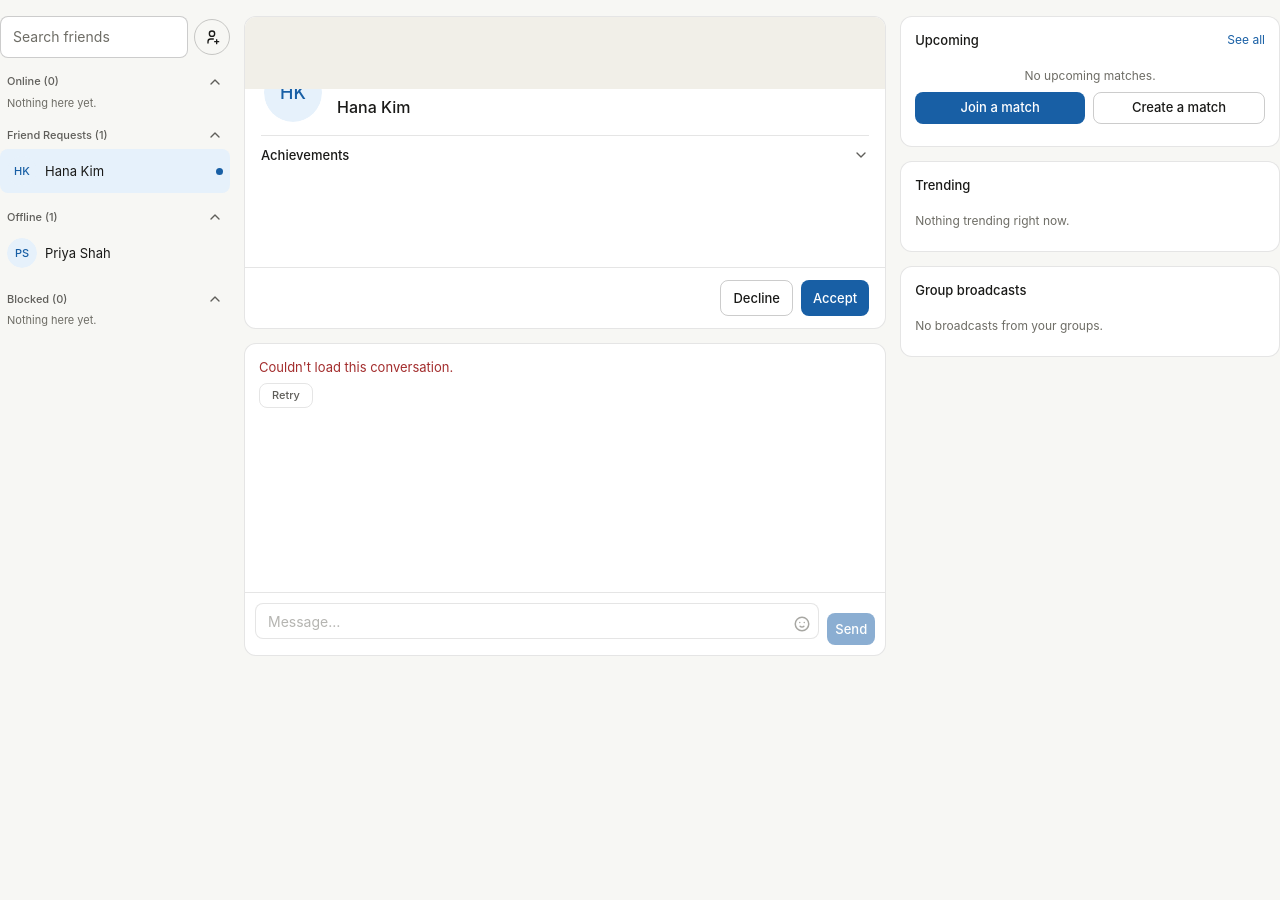
Test: FriendsPage › FRIEND-2: a friend-request notification arrival — accepting then unfriending does not re-open the unavailable dialog
# arrives pre-selected on Hana's incoming request
Click the button "Accept" at (835, 298), box [801,280,869,316]
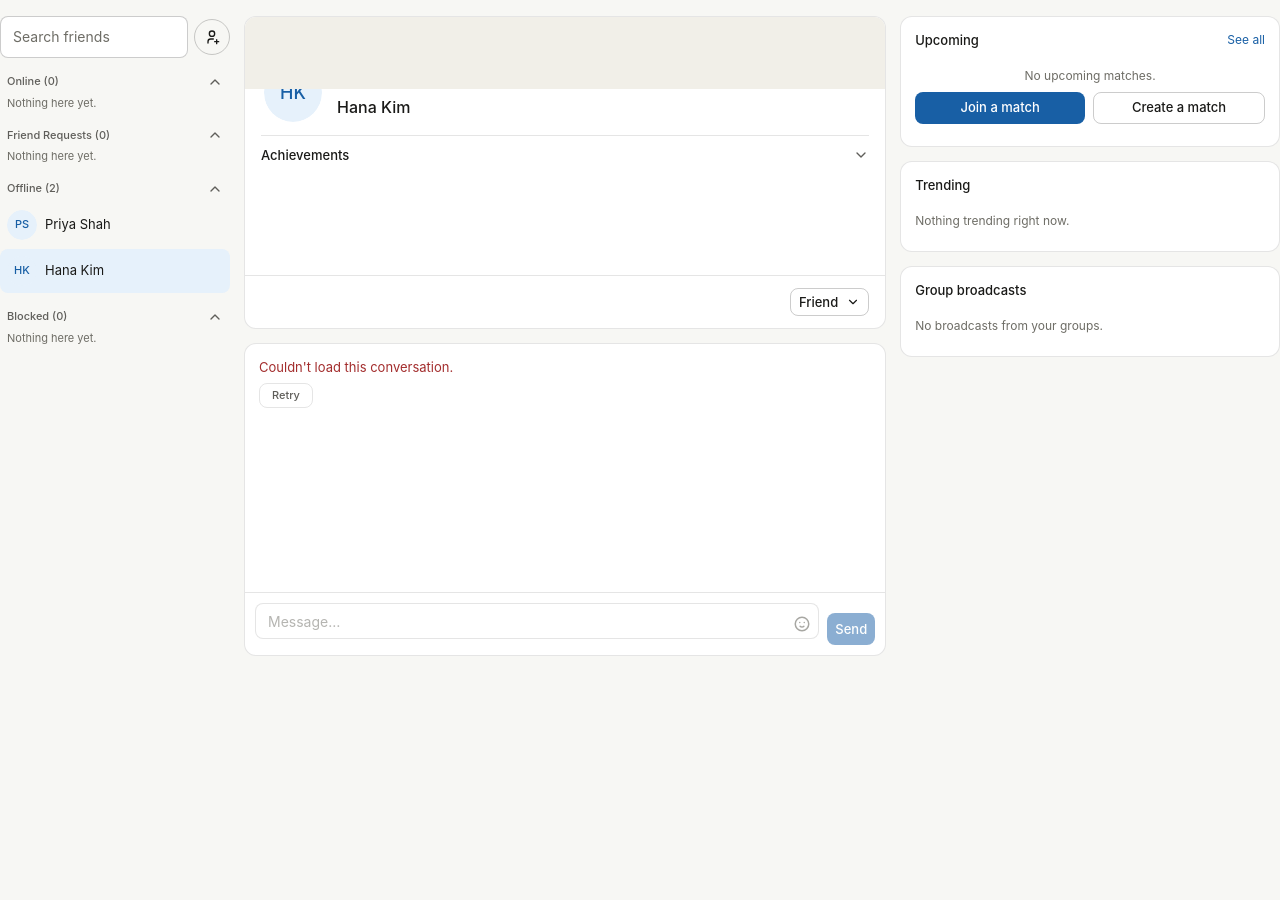
# now a friend — the Friend menu button
Click the button "Friend" at (830, 302), box [790,288,869,316]
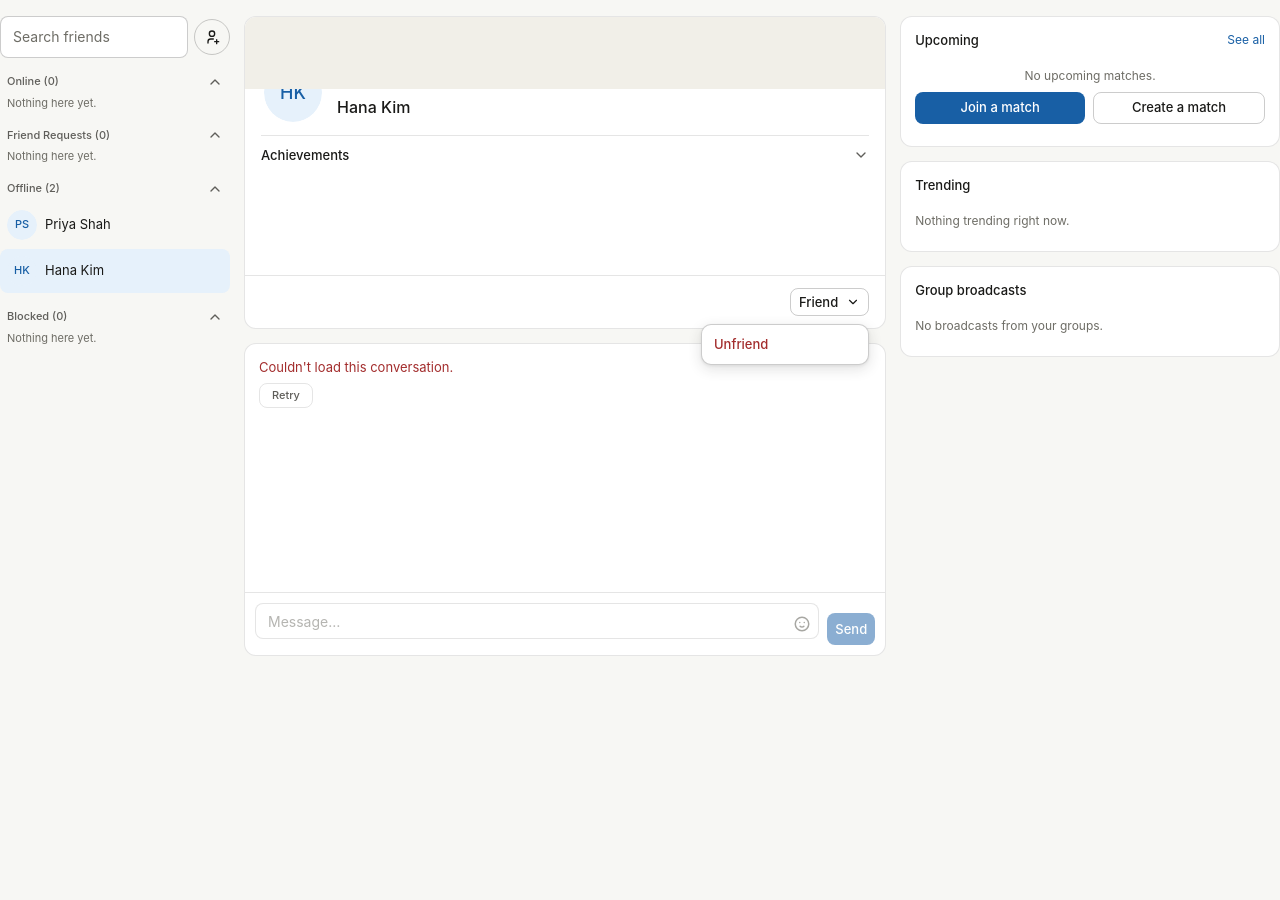
Click the menu item "Unfriend" at (741, 344), box [714,336,768,352]
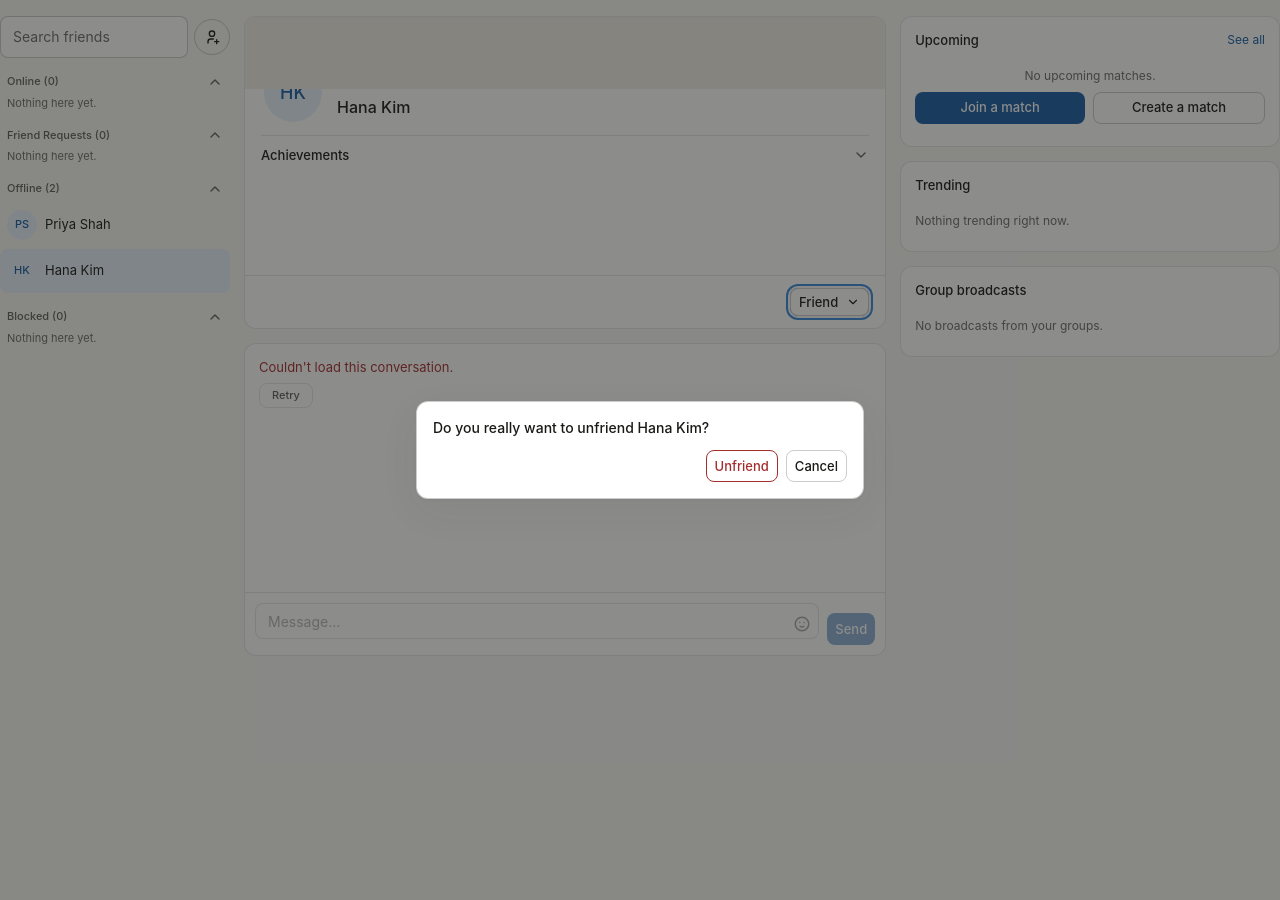
Click the button "Unfriend" at (742, 466), box [706,450,778,482]
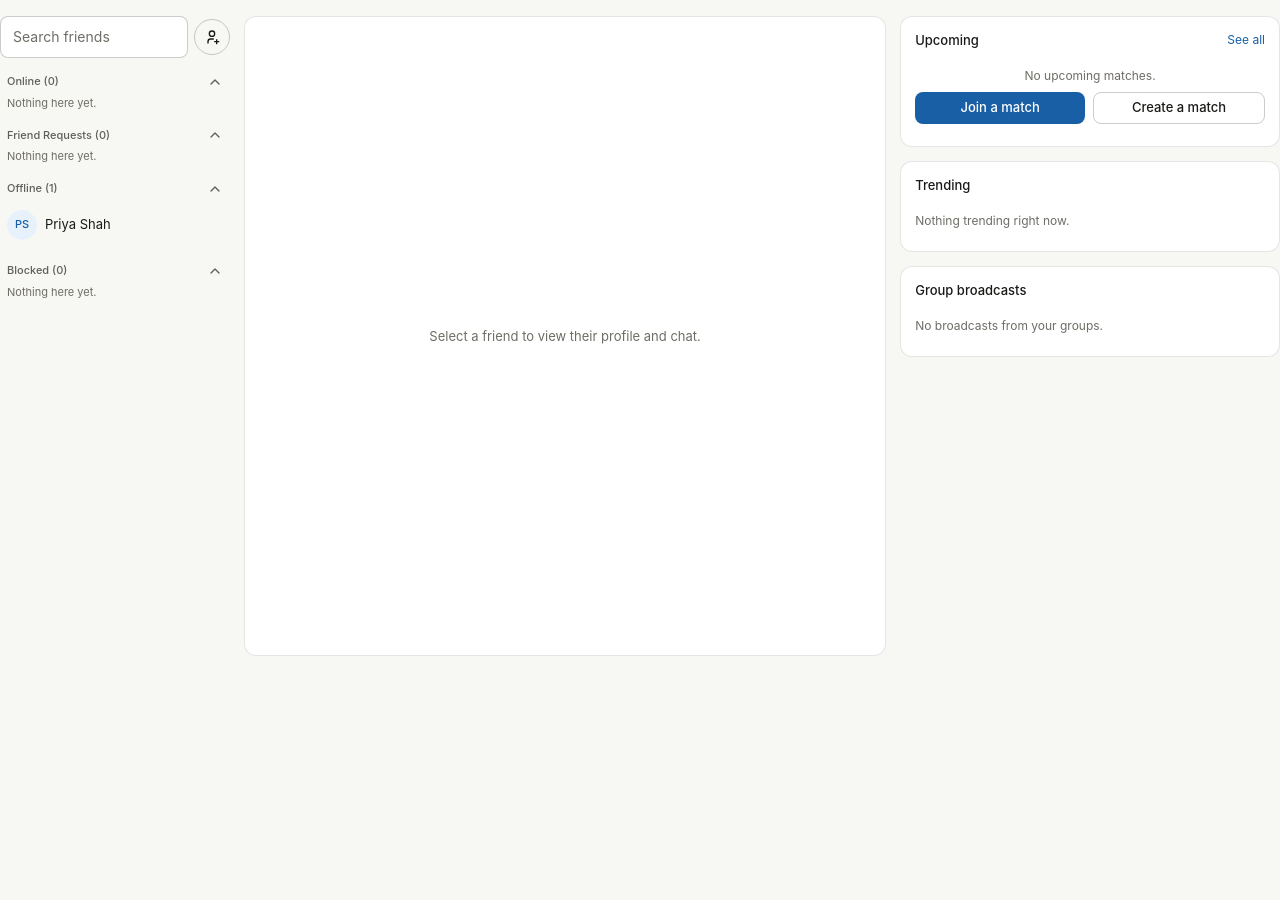
Check: the text "Select a friend to view their profile and chat." is shown, box [244,16,886,656]
